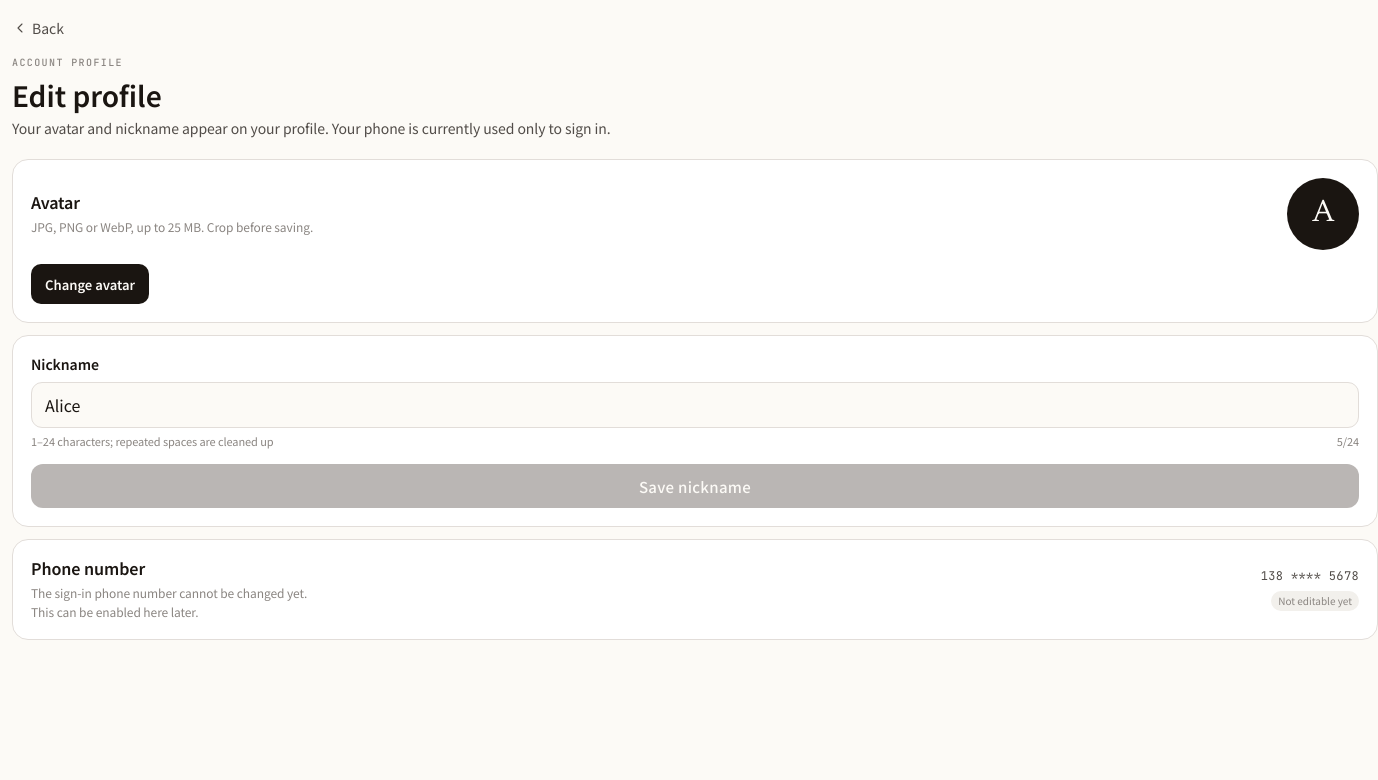
Test case: EditProfilePage › saves a normalized nickname and persists local state
Replace the text in the field labelled "Nickname" with "  Mint   Garden  " at (695, 405), box [31,382,1359,428]
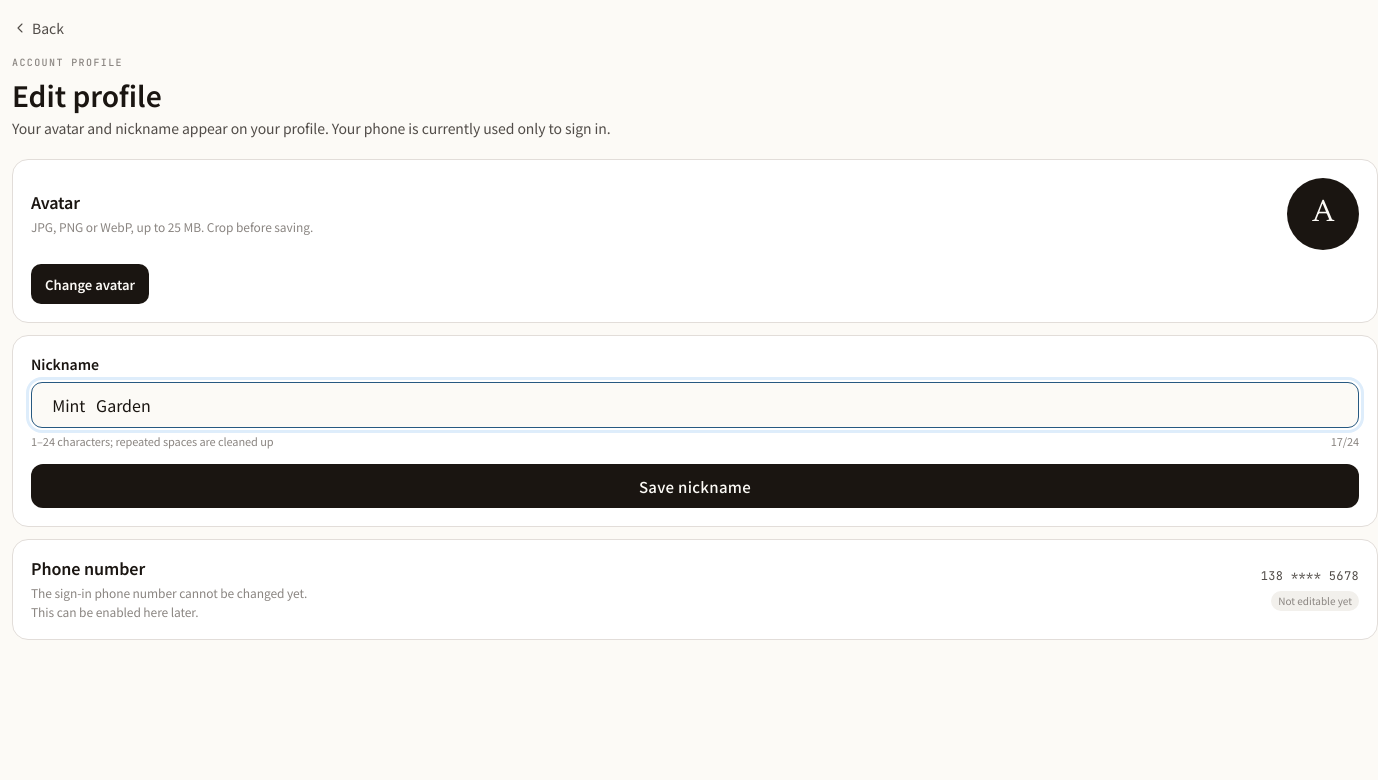
Click the button "Save nickname" at (695, 486), box [31,464,1359,508]
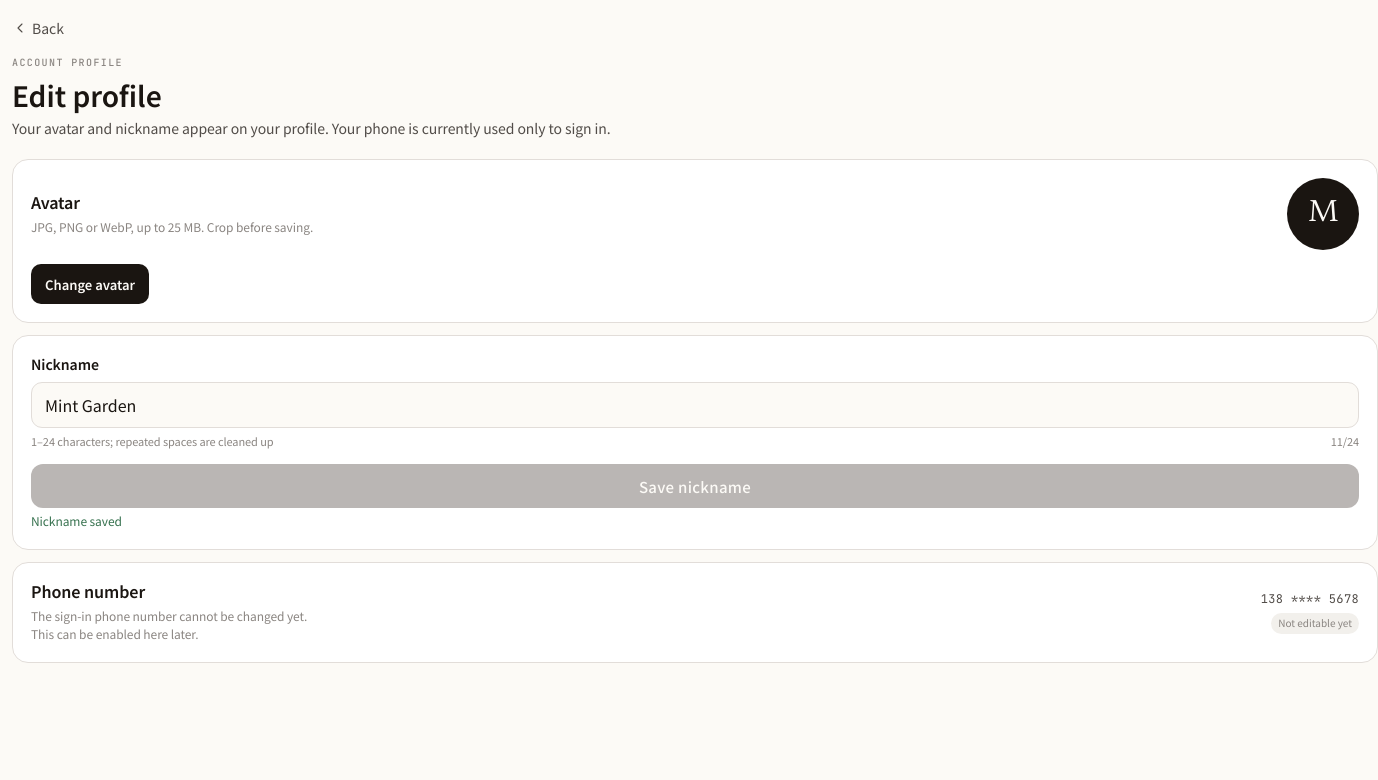
Check: the message reads "Nickname saved", box [31,512,122,529]
